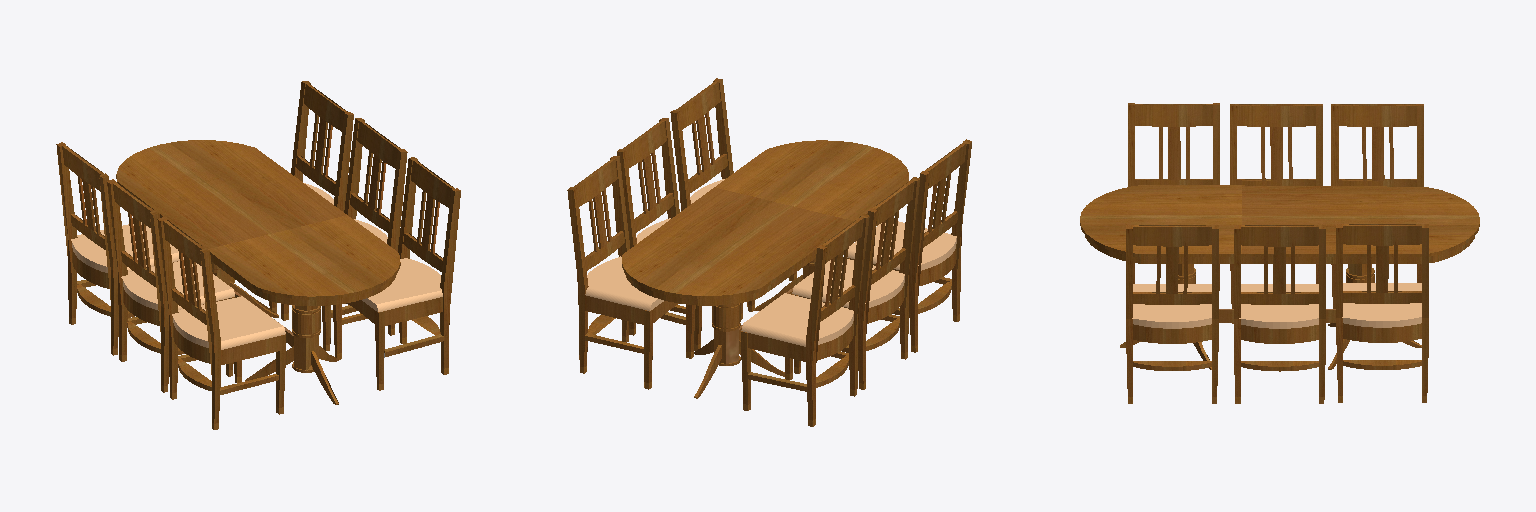
The picture shows the model from 3 angles: view 1: azimuth 30°, elevation 25°; view 2: azimuth 150°, elevation 25°; view 3: azimuth 270°, elevation 25°; orthographic projection.
Visible parts, largest first — view 1: Mesh1 Table_chairs_great1 Table_and_Chairs_2_1 Model, Mesh60 Chair4 Table_and_Chairs_2_1 Model, Mesh30 Chair2 Table_and_Chairs_2_1 Model, Mesh15 Chair1 Table_and_Chairs_2_1 Model, Mesh45 Chair3 Table_and_Chairs_2_1 Model, Mesh49 Group37 Group34 Chair4 Table_and_Chairs_2_1 Model, Mesh24 Group20 Group12 Chair2 Table_and_Chairs_2_1 Model, Mesh9 Group9 Group1 Chair1 Table_and_Chairs_2_1 Model, Mesh39 Group31 Group23 Chair3 Table_and_Chairs_2_1 Model, Mesh54 Group42 Group34 Chair4 Table_and_Chairs_2_1 Model, Mesh4 Group4 Group1 Chair1 Table_and_Chairs_2_1 Model, Mesh34 Group26 Group23 Chair3 Table_and_Chairs_2_1 Model (+22 smaller); view 2: Mesh1 Table_chairs_great1 Table_and_Chairs_2_1 Model, Mesh45 Chair3 Table_and_Chairs_2_1 Model, Mesh15 Chair1 Table_and_Chairs_2_1 Model, Mesh90 Chair6 Table_and_Chairs_2_1 Model, Mesh60 Chair4 Table_and_Chairs_2_1 Model, Mesh39 Group31 Group23 Chair3 Table_and_Chairs_2_1 Model, Mesh54 Group42 Group34 Chair4 Table_and_Chairs_2_1 Model, Mesh79 Group59 Group56 Chair6 Table_and_Chairs_2_1 Model, Mesh9 Group9 Group1 Chair1 Table_and_Chairs_2_1 Model, Mesh34 Group26 Group23 Chair3 Table_and_Chairs_2_1 Model, Mesh4 Group4 Group1 Chair1 Table_and_Chairs_2_1 Model, Mesh49 Group37 Group34 Chair4 Table_and_Chairs_2_1 Model (+22 smaller); view 3: Mesh1 Table_chairs_great1 Table_and_Chairs_2_1 Model, Mesh30 Chair2 Table_and_Chairs_2_1 Model, Mesh90 Chair6 Table_and_Chairs_2_1 Model, Mesh75 Chair5 Table_and_Chairs_2_1 Model, Mesh12 Group1 Chair1 Table_and_Chairs_2_1 Model, Mesh42 Group23 Chair3 Table_and_Chairs_2_1 Model, Mesh57 Group34 Chair4 Table_and_Chairs_2_1 Model, Mesh87 Group56 Chair6 Table_and_Chairs_2_1 Model, Mesh27 Group12 Chair2 Table_and_Chairs_2_1 Model, Mesh72 Group45 Chair5 Table_and_Chairs_2_1 Model, Mesh69 Group53 Group45 Chair5 Table_and_Chairs_2_1 Model, Mesh64 Group48 Group45 Chair5 Table_and_Chairs_2_1 Model (+23 smaller).
Boxes of the visible parts, <box> form: Mesh1 Table_chairs_great1 Table_and_Chairs_2_1 Model: <box>116,140,400,404</box>; Mesh60 Chair4 Table_and_Chairs_2_1 Model: <box>172,296,285,363</box>; Mesh30 Chair2 Table_and_Chairs_2_1 Model: <box>362,258,442,311</box>; Mesh15 Chair1 Table_and_Chairs_2_1 Model: <box>121,261,234,325</box>; Mesh45 Chair3 Table_and_Chairs_2_1 Model: <box>71,222,183,288</box>; Mesh49 Group37 Group34 Chair4 Table_and_Chairs_2_1 Model: <box>200,248,220,429</box>; Mesh24 Group20 Group12 Chair2 Table_and_Chairs_2_1 Model: <box>440,188,460,374</box>; Mesh9 Group9 Group1 Chair1 Table_and_Chairs_2_1 Model: <box>107,179,127,361</box>; Mesh39 Group31 Group23 Chair3 Table_and_Chairs_2_1 Model: <box>56,142,77,324</box>; Mesh54 Group42 Group34 Chair4 Table_and_Chairs_2_1 Model: <box>157,217,178,399</box>; Mesh4 Group4 Group1 Chair1 Table_and_Chairs_2_1 Model: <box>150,211,168,392</box>; Mesh34 Group26 Group23 Chair3 Table_and_Chairs_2_1 Model: <box>99,173,118,355</box>; Mesh1 Table_chairs_great1 Table_and_Chairs_2_1 Model: <box>622,140,908,398</box>; Mesh45 Chair3 Table_and_Chairs_2_1 Model: <box>741,293,853,360</box>; Mesh15 Chair1 Table_and_Chairs_2_1 Model: <box>792,259,904,323</box>; Mesh90 Chair6 Table_and_Chairs_2_1 Model: <box>585,256,663,310</box>; Mesh60 Chair4 Table_and_Chairs_2_1 Model: <box>847,221,956,285</box>; Mesh39 Group31 Group23 Chair3 Table_and_Chairs_2_1 Model: <box>806,245,826,426</box>; Mesh54 Group42 Group34 Chair4 Table_and_Chairs_2_1 Model: <box>909,171,929,352</box>; Mesh79 Group59 Group56 Chair6 Table_and_Chairs_2_1 Model: <box>567,187,588,373</box>; Mesh9 Group9 Group1 Chair1 Table_and_Chairs_2_1 Model: <box>858,208,877,389</box>; Mesh34 Group26 Group23 Chair3 Table_and_Chairs_2_1 Model: <box>849,214,869,396</box>; Mesh4 Group4 Group1 Chair1 Table_and_Chairs_2_1 Model: <box>899,177,919,359</box>; Mesh49 Group37 Group34 Chair4 Table_and_Chairs_2_1 Model: <box>951,139,971,321</box>; Mesh1 Table_chairs_great1 Table_and_Chairs_2_1 Model: <box>1080,185,1479,369</box>; Mesh30 Chair2 Table_and_Chairs_2_1 Model: <box>1132,284,1211,343</box>; Mesh90 Chair6 Table_and_Chairs_2_1 Model: <box>1342,283,1421,342</box>; Mesh75 Chair5 Table_and_Chairs_2_1 Model: <box>1239,284,1318,343</box>; Mesh12 Group1 Chair1 Table_and_Chairs_2_1 Model: <box>1237,104,1315,126</box>; Mesh42 Group23 Chair3 Table_and_Chairs_2_1 Model: <box>1339,104,1416,126</box>; Mesh57 Group34 Chair4 Table_and_Chairs_2_1 Model: <box>1135,104,1212,126</box>; Mesh87 Group56 Chair6 Table_and_Chairs_2_1 Model: <box>1343,224,1421,245</box>; Mesh27 Group12 Chair2 Table_and_Chairs_2_1 Model: <box>1133,225,1211,246</box>; Mesh72 Group45 Chair5 Table_and_Chairs_2_1 Model: <box>1241,225,1318,246</box>; Mesh69 Group53 Group45 Chair5 Table_and_Chairs_2_1 Model: <box>1234,225,1240,403</box>; Mesh64 Group48 Group45 Chair5 Table_and_Chairs_2_1 Model: <box>1319,225,1325,403</box>.
Size of the model in its own units: 1.66 by 1.13 by 2.25.
5 materials, 2 textured.